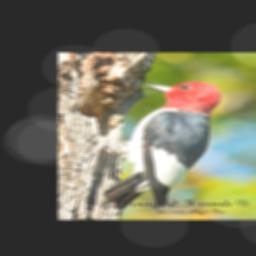Woodpecker: (96, 79, 220, 211)
